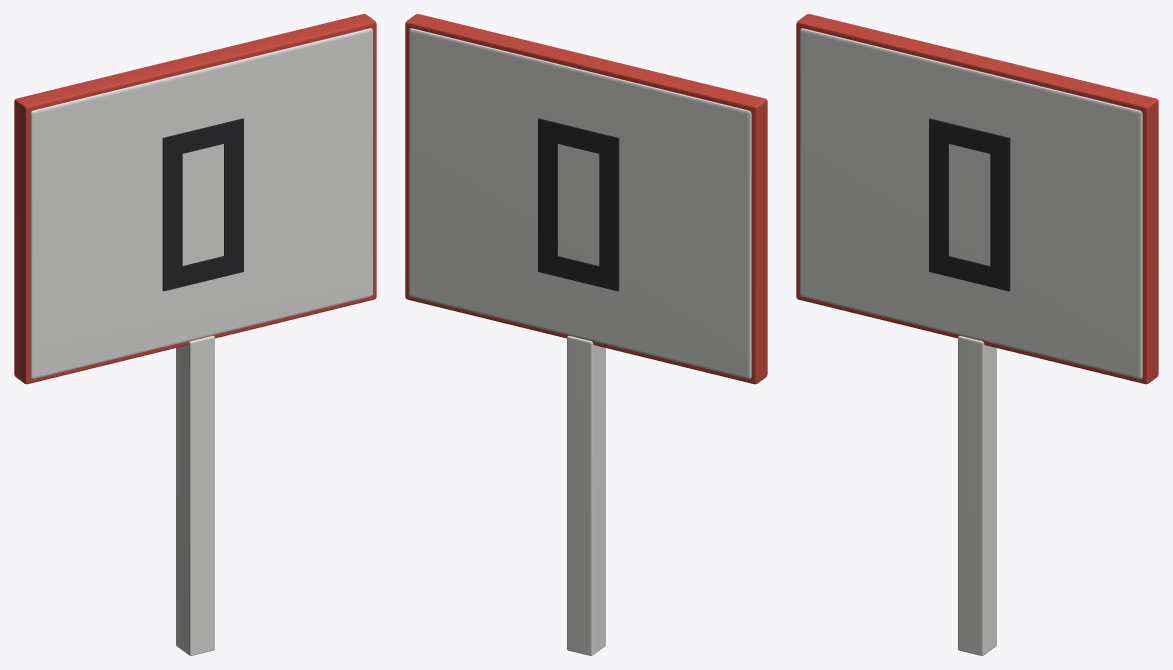
The model's file is yard_board_0.glb.
3 renders of one model, left to right at view 1: azimuth 30°, elevation 25°; view 2: azimuth 150°, elevation 25°; view 3: azimuth 330°, elevation 25°, orthographic.
Visible parts, largest first — view 1: SM_yard_board_0; view 2: SM_yard_board_0; view 3: SM_yard_board_0.
Boxes of the visible parts, x1=… form: SM_yard_board_0: x1=14, y1=14, x2=376, y2=655; SM_yard_board_0: x1=405, y1=14, x2=767, y2=655; SM_yard_board_0: x1=796, y1=14, x2=1158, y2=655.
Size of the model in its own units: 0.82 by 1.31 by 0.068.
